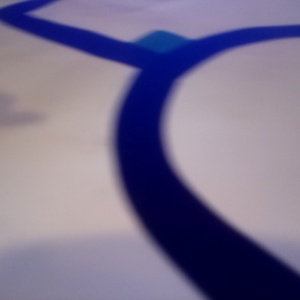top_left: (127, 29, 195, 66)
